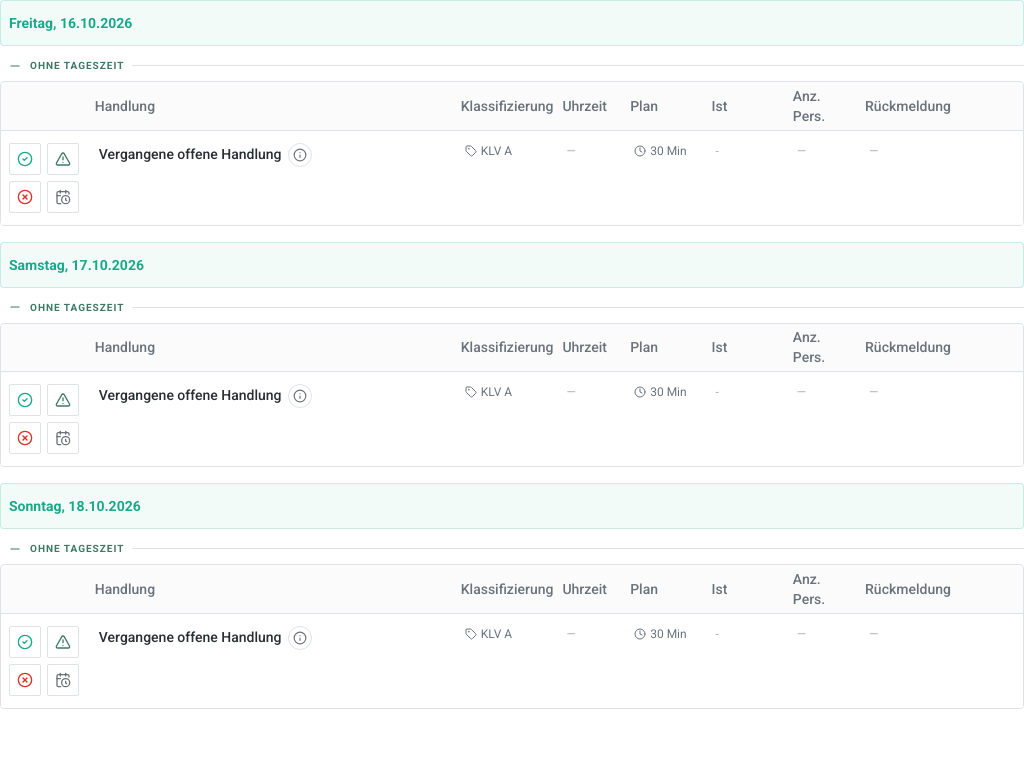
Test: AssessmentOutline confirmation actions › allows confirming classification A actions for the simulated Inhouse-Spitex A role
The width and height of the screenshot is (1024, 768).
Click the 1st button named "Erledigt wie geplant": click(25, 158) x1=9 y1=142 x2=41 y2=174
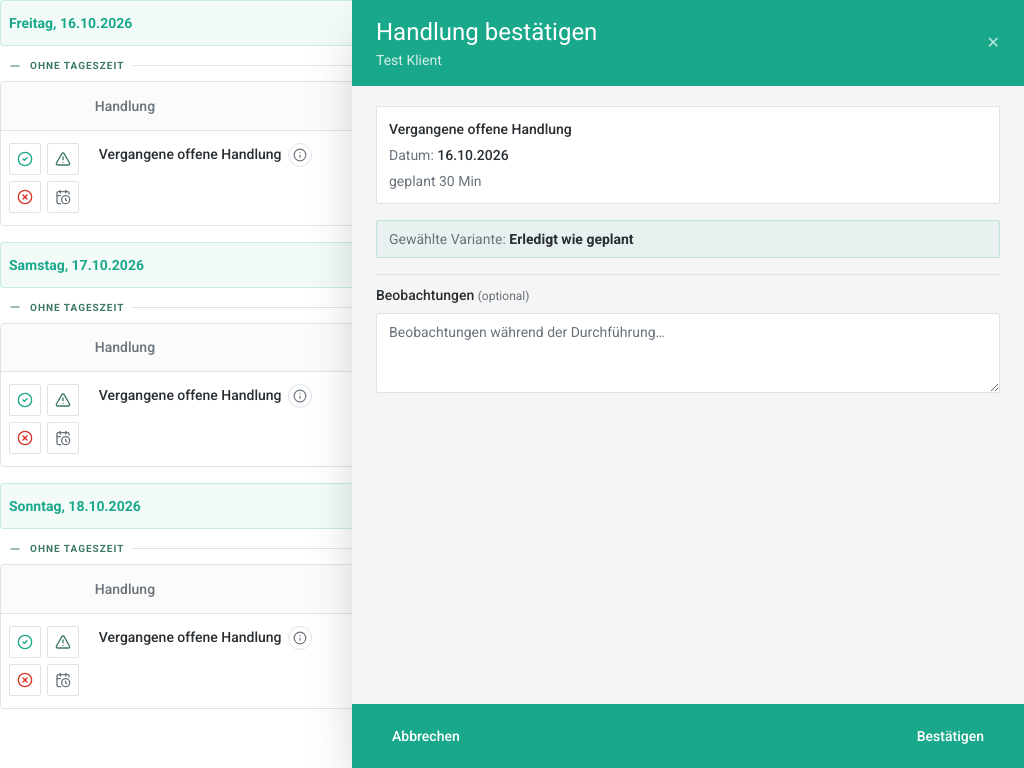
expect the dialog is shown: met
